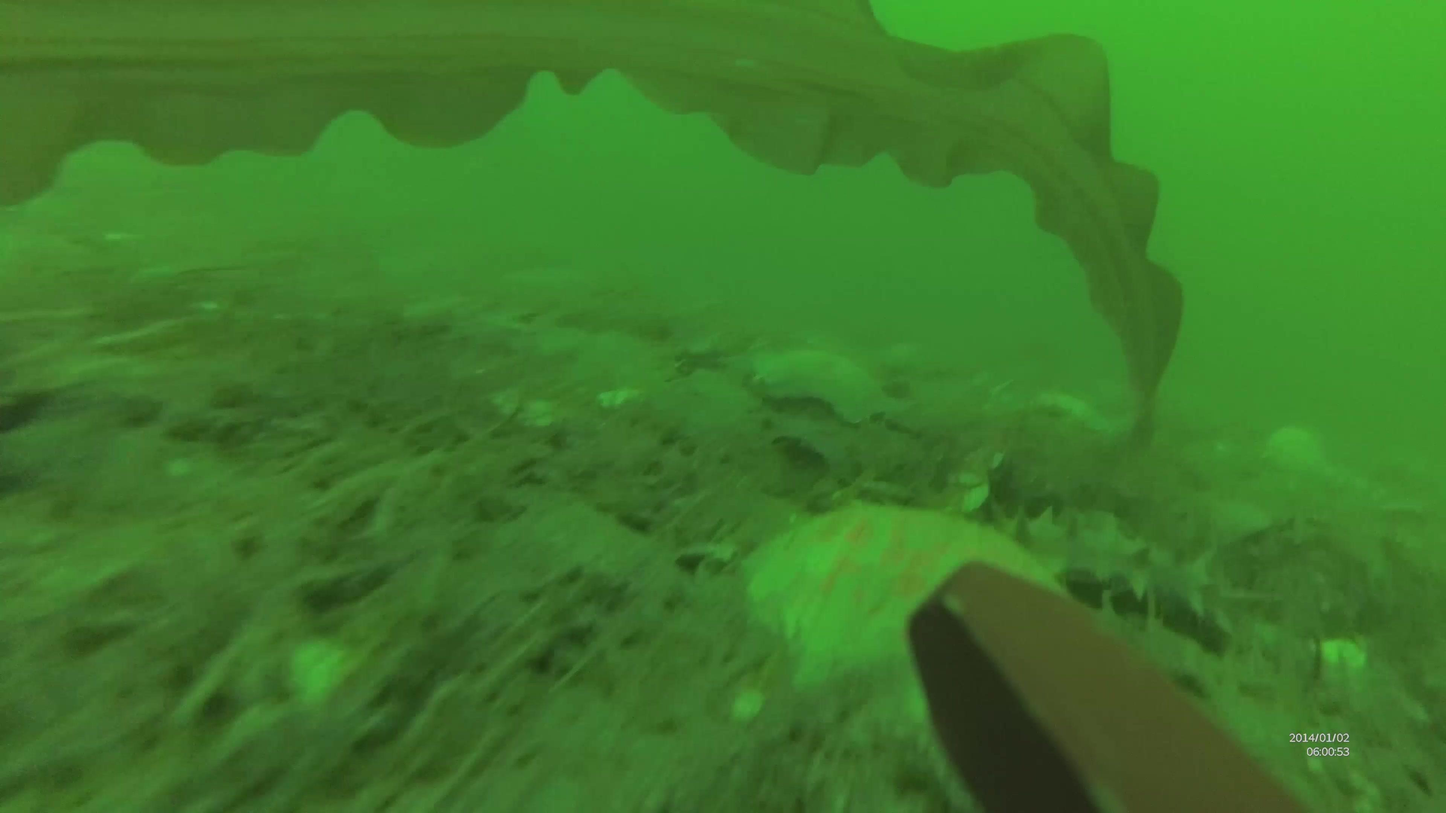holothurian: (743, 504, 1049, 700), (740, 340, 895, 423)
